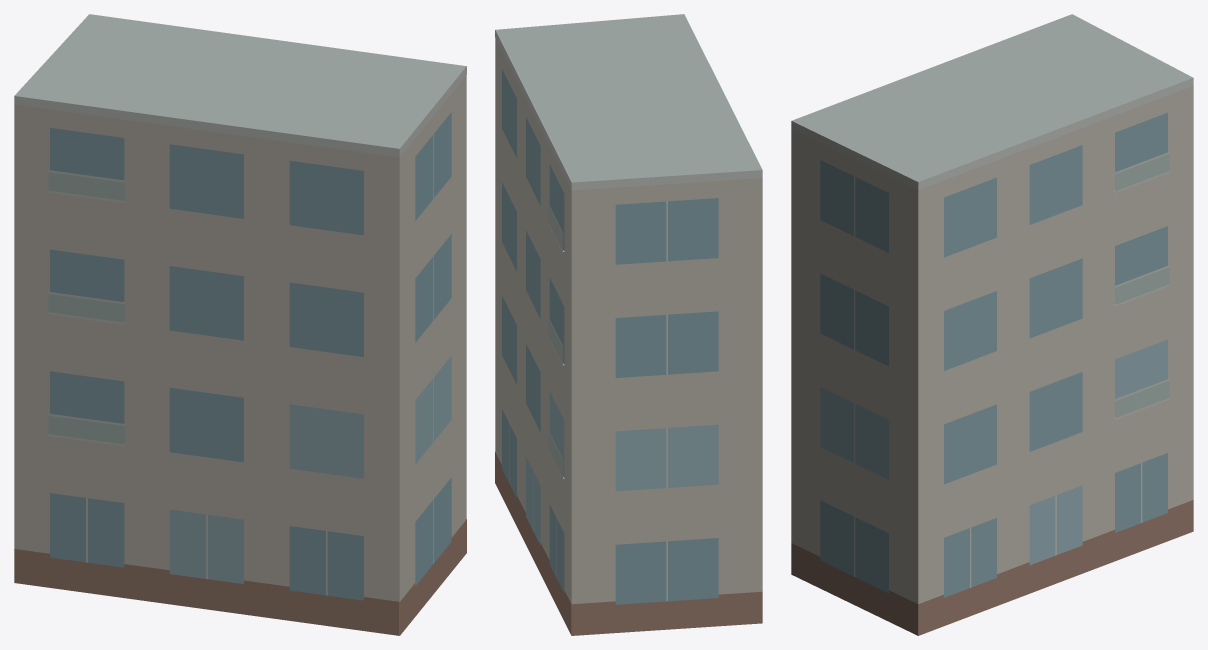
The model's file is survey-upis-32793572.glb.
3 renders of one model, left to right at view 1: azimuth 30°, elevation 25°; view 2: azimuth 150°, elevation 25°; view 3: azimuth 270°, elevation 25°, orthographic. The views are drawn at different scales.
Visible parts, largest first — view 1: survey-upis-32793572.tmp; view 2: survey-upis-32793572.tmp; view 3: survey-upis-32793572.tmp.
Part boxes in pixels (box(x1,y1,x2,y2)): survey-upis-32793572.tmp: box(14, 14, 466, 635); survey-upis-32793572.tmp: box(495, 14, 762, 635); survey-upis-32793572.tmp: box(791, 14, 1193, 635).
Bounding box in the file's own units: 11.06 × 13.9 × 11.17.
